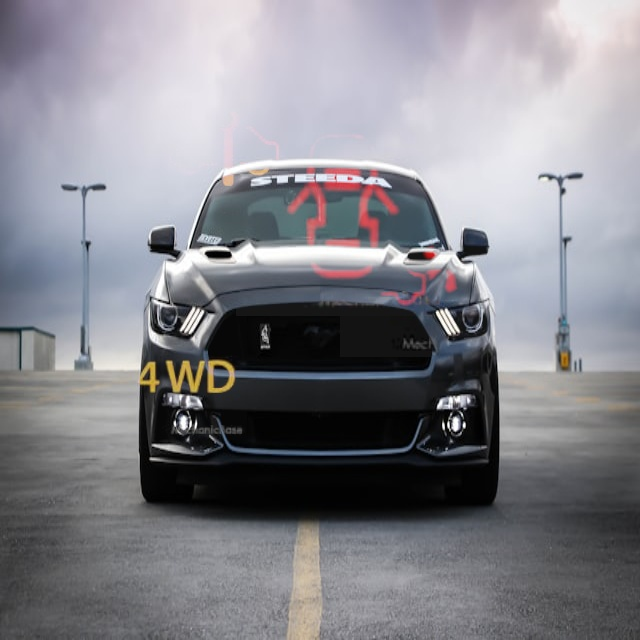symbol: (236, 103, 449, 316), (340, 198, 499, 357), (148, 74, 298, 224), (123, 316, 247, 440)
